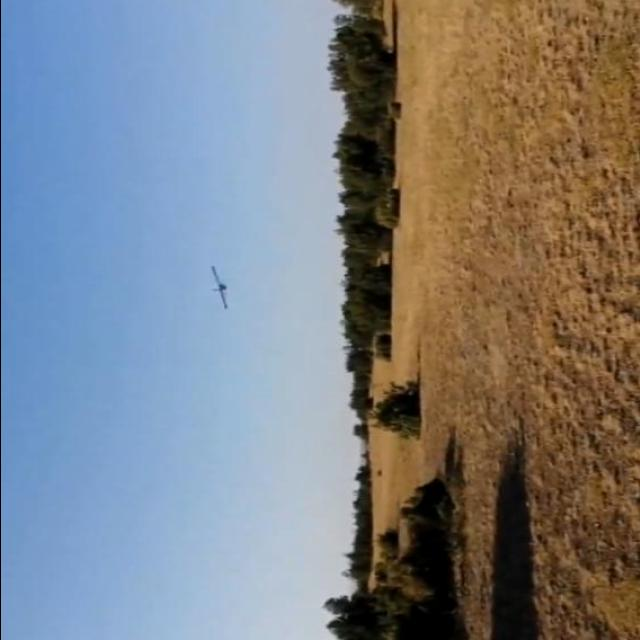plane: (208, 266, 228, 311)
